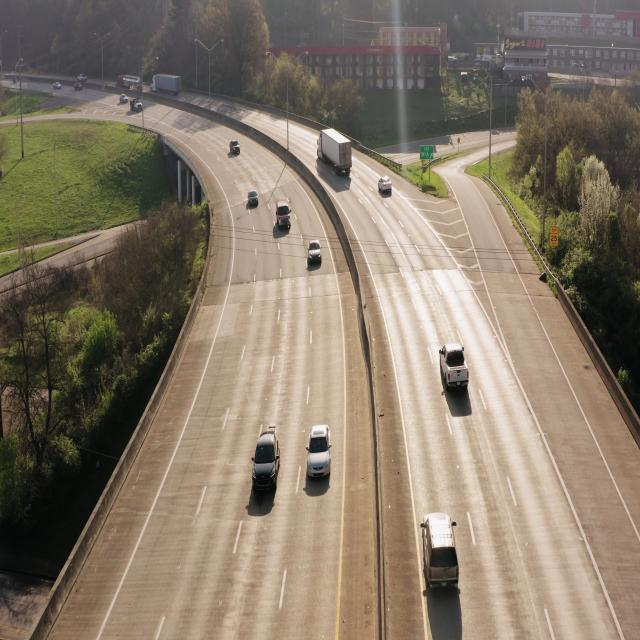Car: (419, 514, 462, 598), (315, 125, 353, 181), (252, 426, 281, 498), (438, 338, 471, 396), (307, 425, 333, 485), (308, 237, 324, 272), (276, 200, 292, 235), (378, 173, 392, 199)
